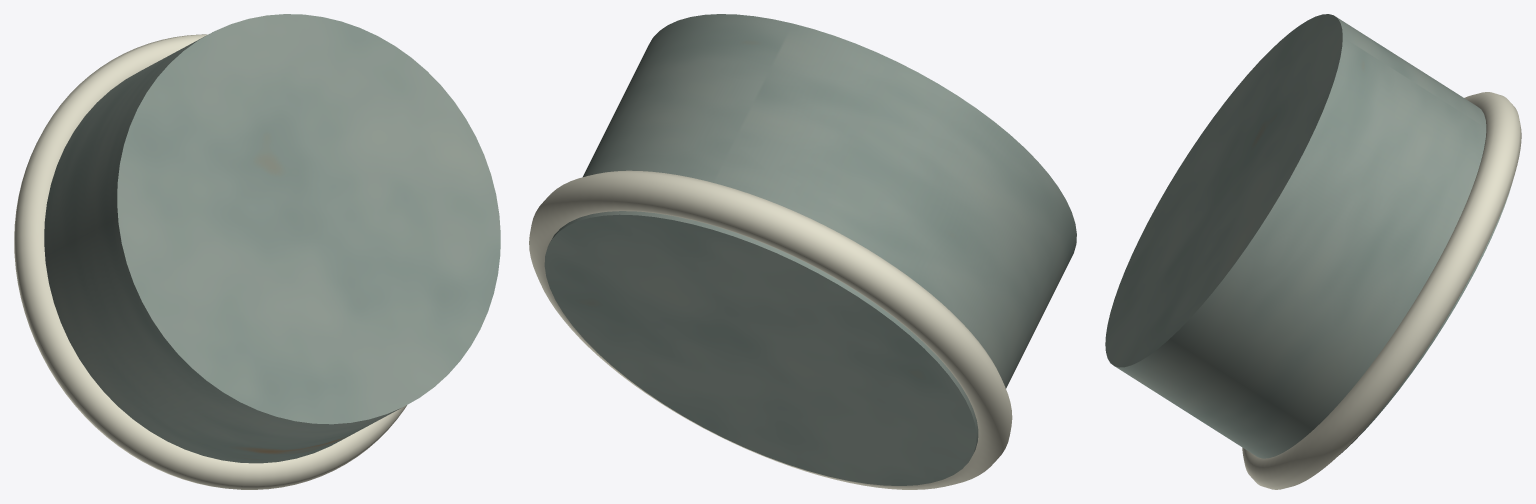
Rendered from Rear_Hub.glb.
3 renders of one model, left to right at view 1: azimuth 30°, elevation 25°; view 2: azimuth 150°, elevation 25°; view 3: azimuth 270°, elevation 25°, orthographic. The views are drawn at different scales.
Visible parts, largest first — view 1: Rear_Hub; view 2: Rear_Hub; view 3: Rear_Hub.
Boxes of the visible parts, x1=… form: Rear_Hub: x1=14, y1=14, x2=500, y2=489; Rear_Hub: x1=529, y1=14, x2=1076, y2=489; Rear_Hub: x1=1105, y1=14, x2=1521, y2=489.
Size of the model in its own units: 3.22 by 3.3 by 2.92.
2 materials, 1 textured.
